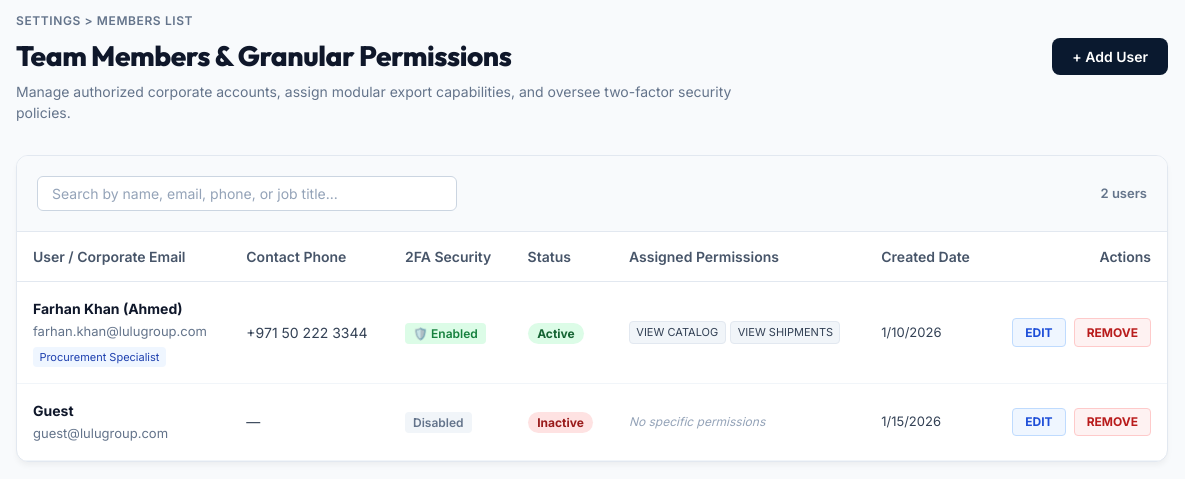
Members Components & Page (FEAT-1.4) › MembersPage Component › filters member table rows in real-time
In the field named "Filter member roster": (247, 194) [37,176,457,211], type "Farhan"
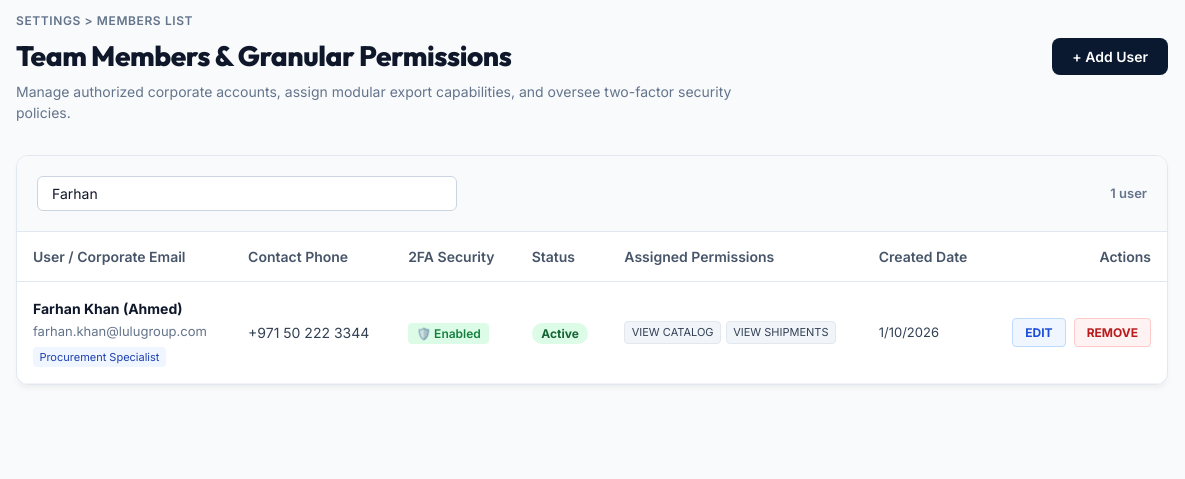
expect the text "farhan.khan@lulugroup.com" is shown: met, box [33,322,216,342]
expect the text "guest@lulugroup.com" is gone: met
// Non-matching query
Replace the text in the field named "Filter member roster" with "NonExistent": (247, 194) [37,176,457,211]
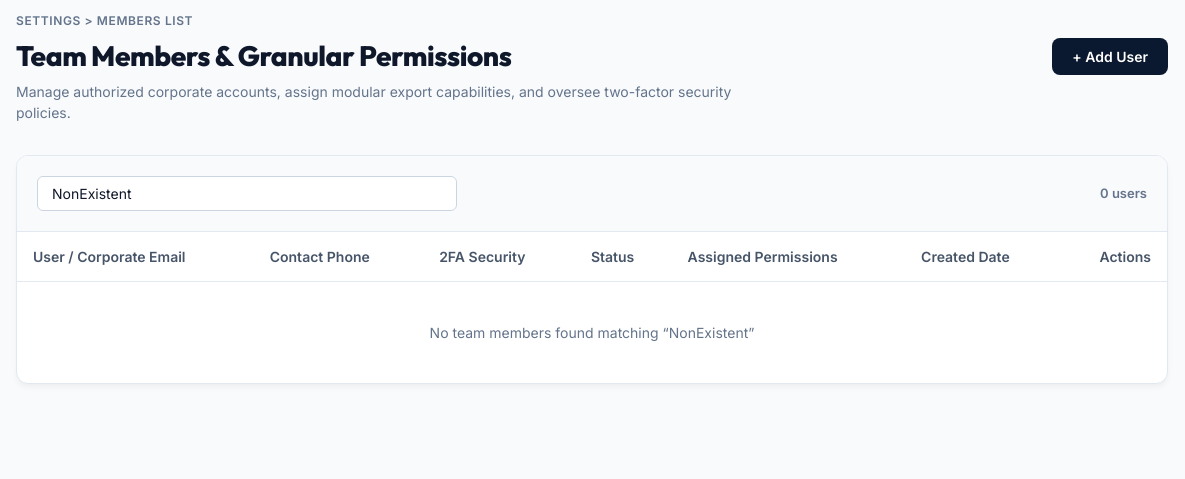
expect the text "No team members found matching “NonExistent”" is shown: met, box [17,282,1167,383]
